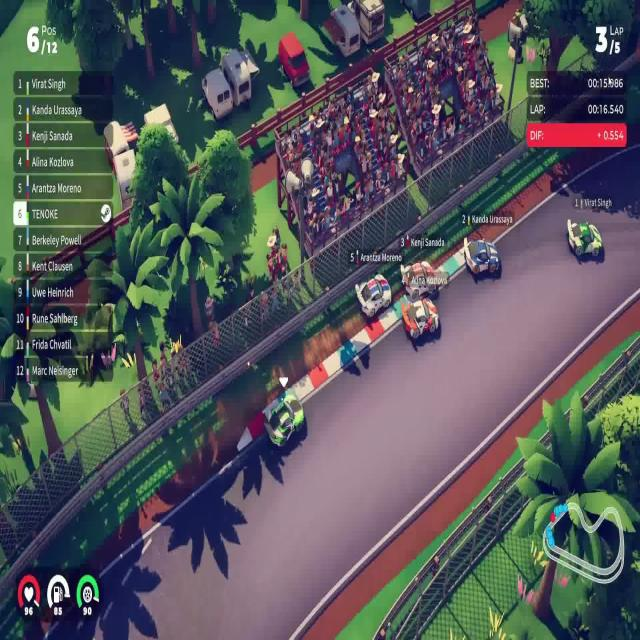car: (262, 388, 304, 450), (400, 292, 439, 342), (354, 272, 392, 321), (399, 258, 442, 300), (463, 236, 501, 280), (566, 217, 603, 259)
